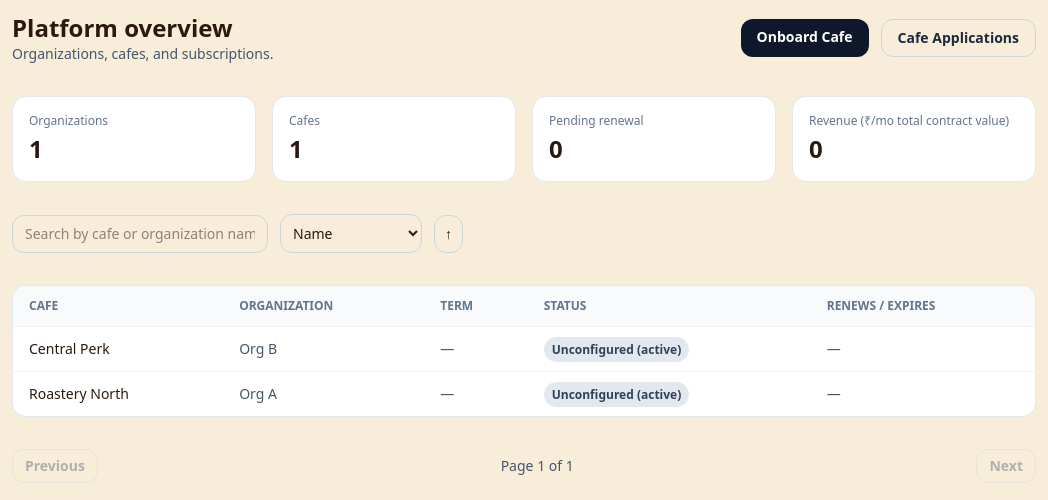
Test: AdminOverviewPage › filters the cafe list by cafe name as the admin types
Expected: the text "Roastery North" is shown, top-left (13, 372), bottom-right (223, 416)
Type "central" into the field named "search cafes" at [140, 234], box top-left (12, 214), bottom-right (268, 252)
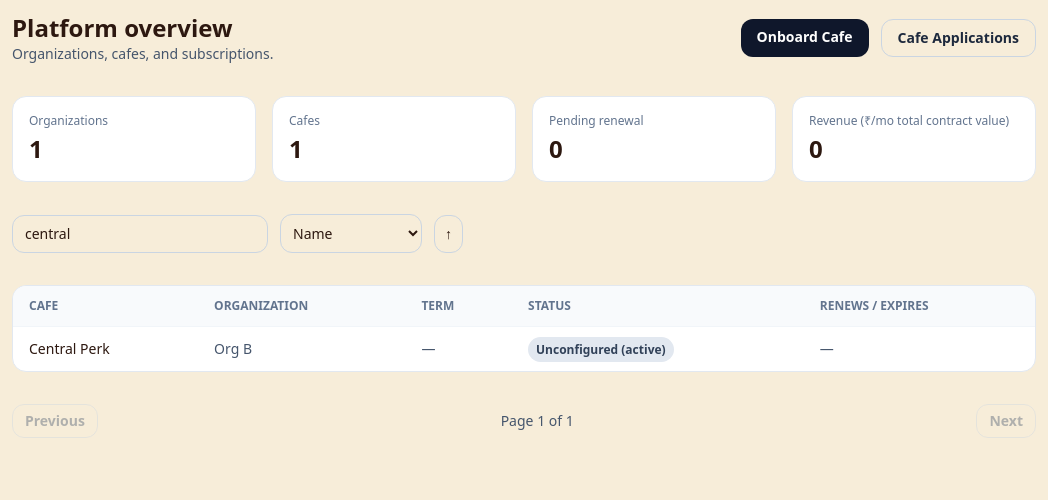
Expected: the text "Central Perk" is shown, top-left (13, 326), bottom-right (198, 371)
Expected: the text "Roastery North" is gone
